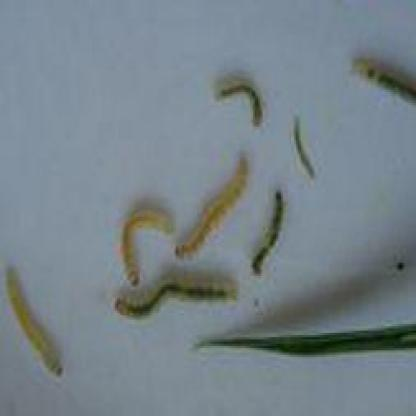leaf-folder: (2, 249, 76, 396), (98, 264, 245, 326), (176, 152, 248, 266), (345, 48, 416, 126), (116, 207, 170, 284), (212, 70, 269, 132), (257, 184, 290, 288), (286, 108, 322, 180)
